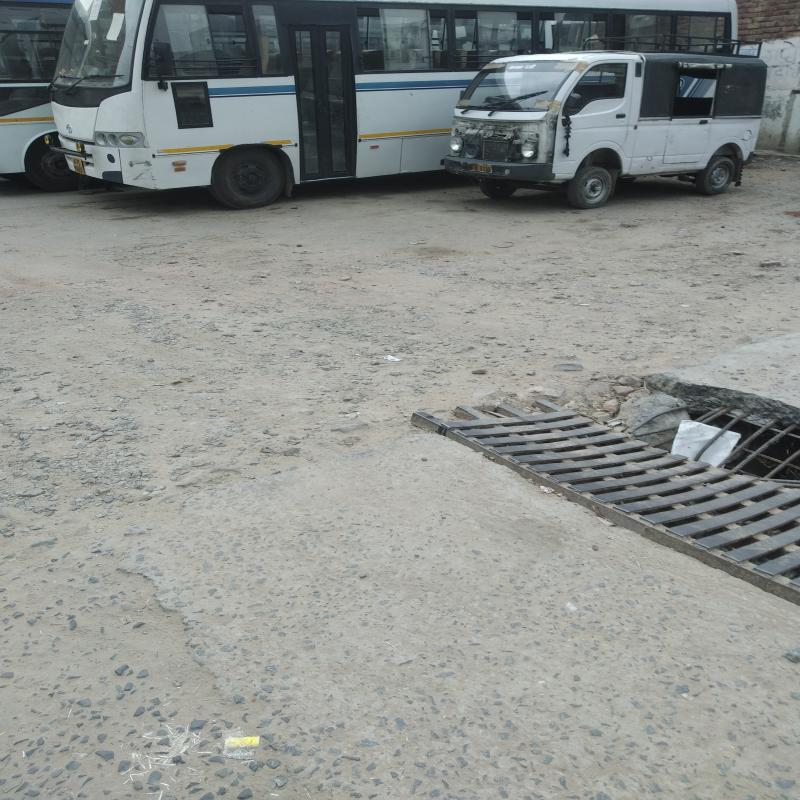bus: (60, 8, 441, 196)
